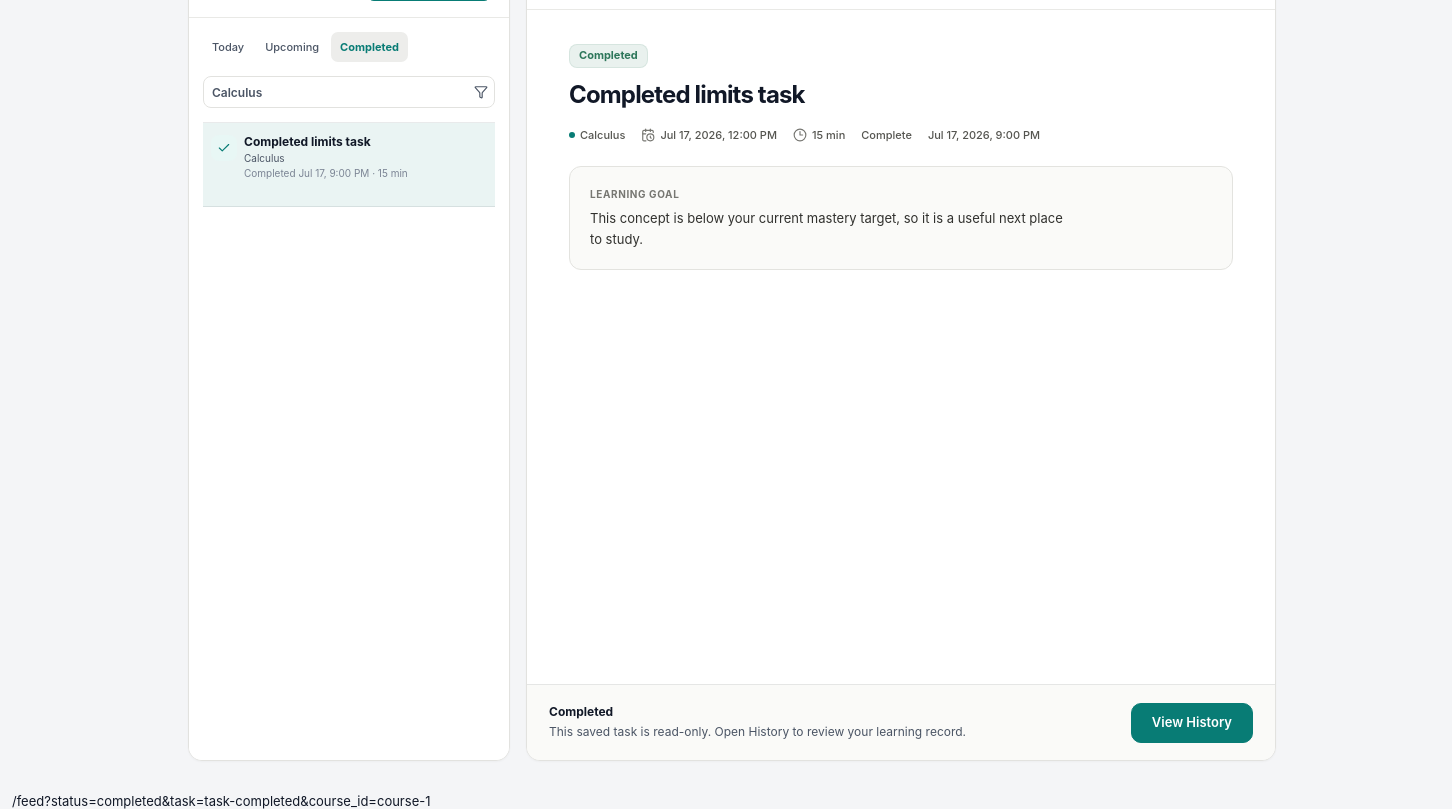
Test: LearningFeedPage autonomous learning › opens an exact persisted completion read-only from a completed deep link
(page scrolled)
Expected: the heading "Completed limits task" is shown, [569,80,805,109]
Expected: the text "saved task is read-only" is shown, [549,724,966,739]
Click the button "View History" at coordinates (1192, 722), box [1131,702,1253,742]
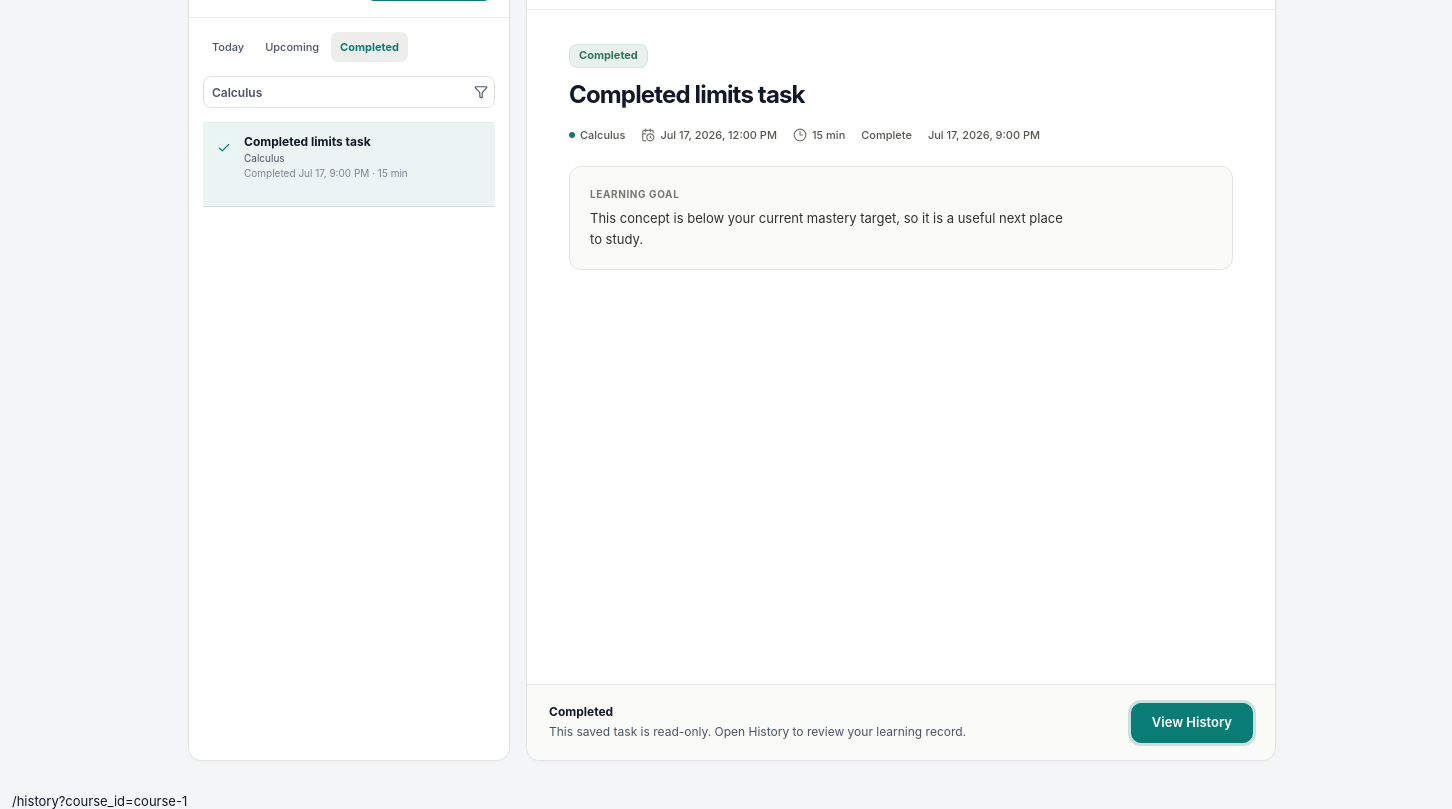
Result: the text named "Current test route" reads "/history?course_id=course-1" at [12,793,187,808]
